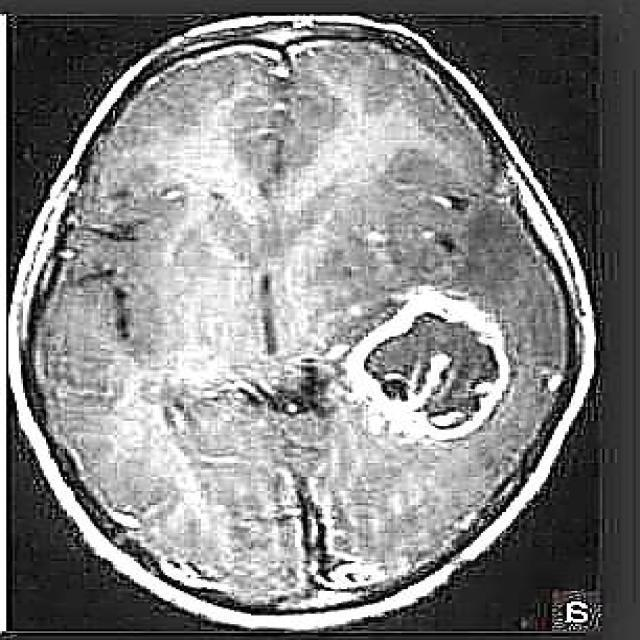brain tumor: (341, 293, 512, 440)
